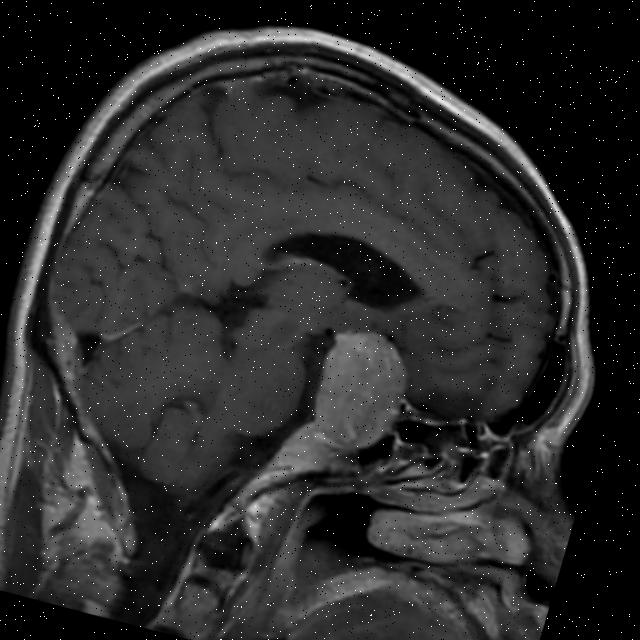Pituitary: (299, 320, 421, 461)
